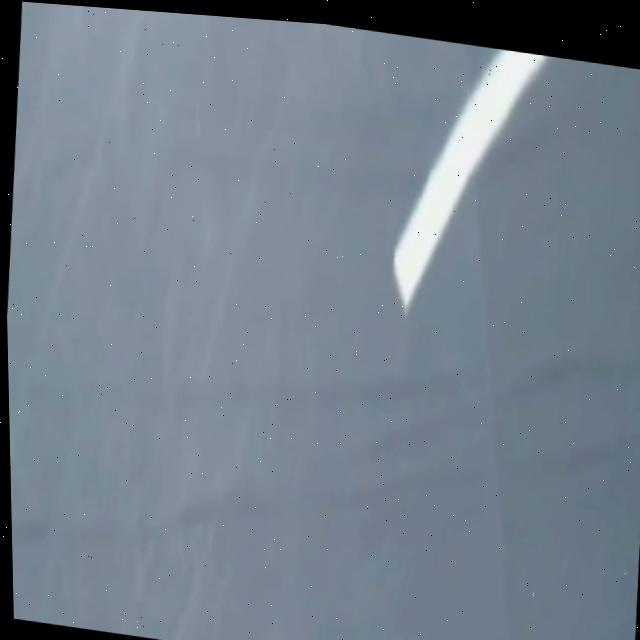center: (394, 49, 548, 314)
